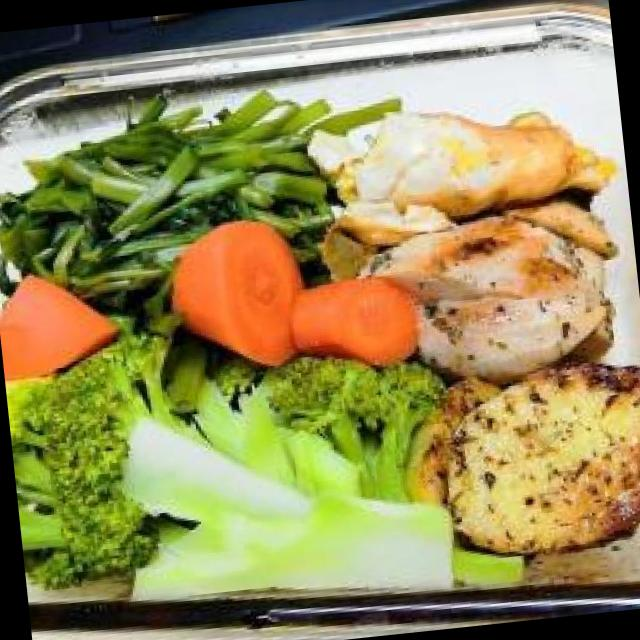water_spinach: (0, 94, 356, 290)
